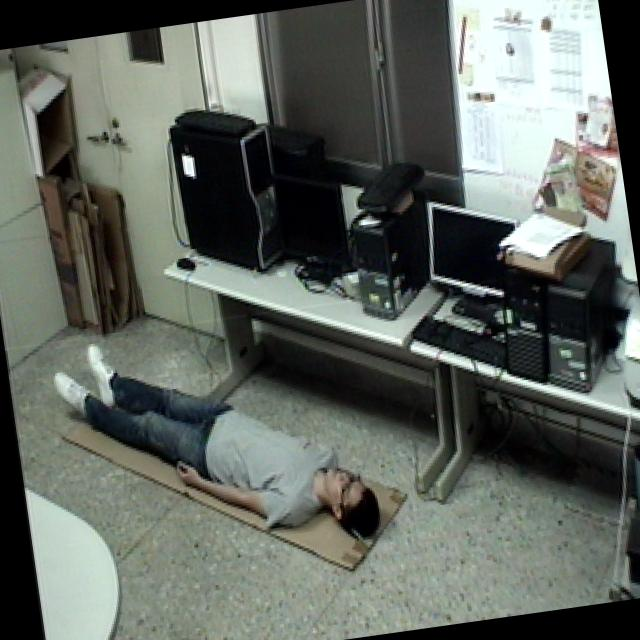lie: (44, 298, 388, 584)
